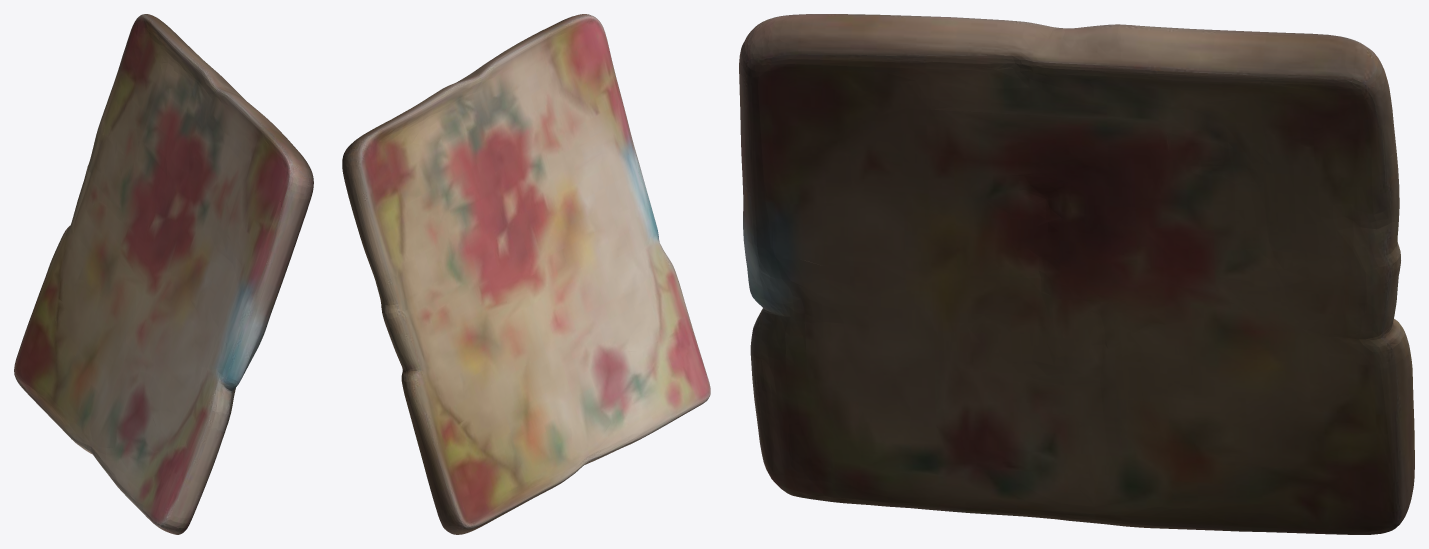
File: large_patterned_mattress_leaning_against_wall_000.glb
3 renders of one model, left to right at view 1: azimuth 30°, elevation 25°; view 2: azimuth 150°, elevation 25°; view 3: azimuth 270°, elevation 25°, orthographic. The views are drawn at different scales.
Visible parts, largest first — view 1: large_patterned_mattress_leaning_against_wall_000.obj; view 2: large_patterned_mattress_leaning_against_wall_000.obj; view 3: large_patterned_mattress_leaning_against_wall_000.obj.
Boxes of the visible parts, <box> form: large_patterned_mattress_leaning_against_wall_000.obj: <box>14,14,313,534</box>; large_patterned_mattress_leaning_against_wall_000.obj: <box>342,14,710,534</box>; large_patterned_mattress_leaning_against_wall_000.obj: <box>739,14,1414,534</box>.
Size of the model in its own units: 0.4111 by 0.7863 by 0.8323.
Materials: 1 (1 with a texture image).
